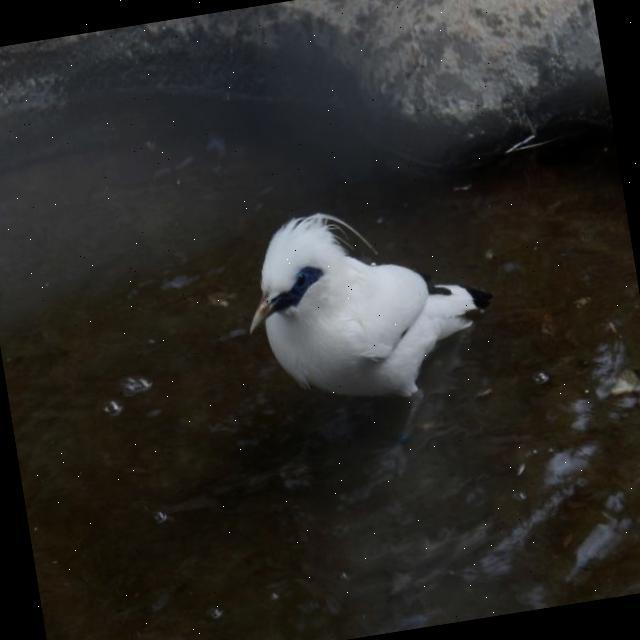Jalak Bali: (210, 142, 520, 456)
